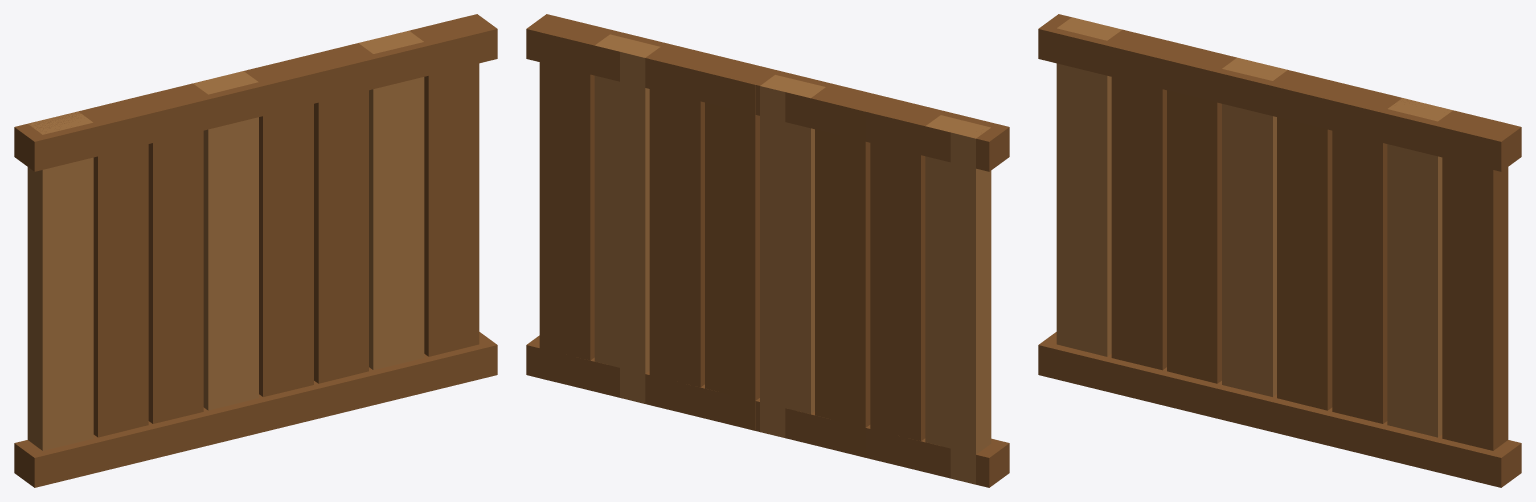
Rendered from wood_wall_solid.glb.
3 views of the same model, side by side, from view 1: azimuth 30°, elevation 25°; view 2: azimuth 150°, elevation 25°; view 3: azimuth 330°, elevation 25° (orthographic).
Parts seen in each view (by area): view 1: Wall_1, Top_Beam, Bottom_Beam, Wall_8, Wall_2, Wall_7, Wall_3, Wall_4, Wall_5, Wall_6; view 2: Wall_1, Wall_6, Wall_8, Wall_7, Wall_2, Wall_3, Wall_4, Wall_5, Top_Beam, Bottom_Beam; view 3: Wall_8, Top_Beam, Bottom_Beam, Wall_1, Wall_2, Wall_7, Wall_6, Wall_5, Wall_4, Wall_3.
Boxes of the visible parts, x1,y1,x2,y2 form: Wall_1: [27, 111, 93, 450]; Top_Beam: [14, 14, 497, 171]; Bottom_Beam: [14, 332, 497, 487]; Wall_8: [414, 17, 479, 356]; Wall_2: [83, 98, 148, 437]; Wall_7: [359, 31, 424, 370]; Wall_3: [138, 84, 203, 423]; Wall_4: [193, 71, 258, 410]; Wall_5: [248, 57, 313, 396]; Wall_6: [303, 44, 368, 383]; Wall_1: [925, 115, 991, 484]; Wall_6: [649, 48, 715, 411]; Wall_8: [539, 21, 605, 384]; Wall_7: [594, 34, 660, 403]; Wall_2: [870, 101, 935, 464]; Wall_3: [815, 88, 880, 457]; Wall_4: [760, 75, 825, 437]; Wall_5: [705, 61, 770, 430]; Top_Beam: [526, 14, 1009, 171]; Bottom_Beam: [526, 335, 1009, 487]; Wall_8: [1442, 111, 1508, 450]; Top_Beam: [1038, 14, 1521, 171]; Bottom_Beam: [1038, 332, 1521, 487]; Wall_1: [1056, 17, 1121, 356]; Wall_2: [1111, 31, 1176, 370]; Wall_7: [1387, 98, 1452, 437]; Wall_6: [1332, 84, 1397, 423]; Wall_5: [1277, 71, 1342, 410]; Wall_4: [1222, 57, 1287, 396]; Wall_3: [1167, 44, 1232, 383].
Size of the model in its own units: 4.2 by 3 by 0.3214.
